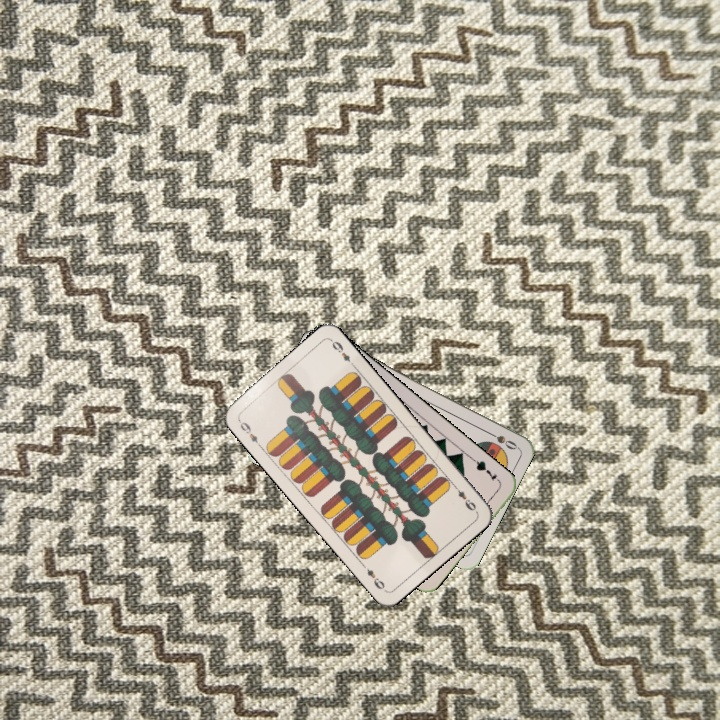E9: (449, 480, 479, 514), (234, 416, 264, 450)
G7: (469, 455, 503, 486)
SO: (482, 427, 520, 452)
